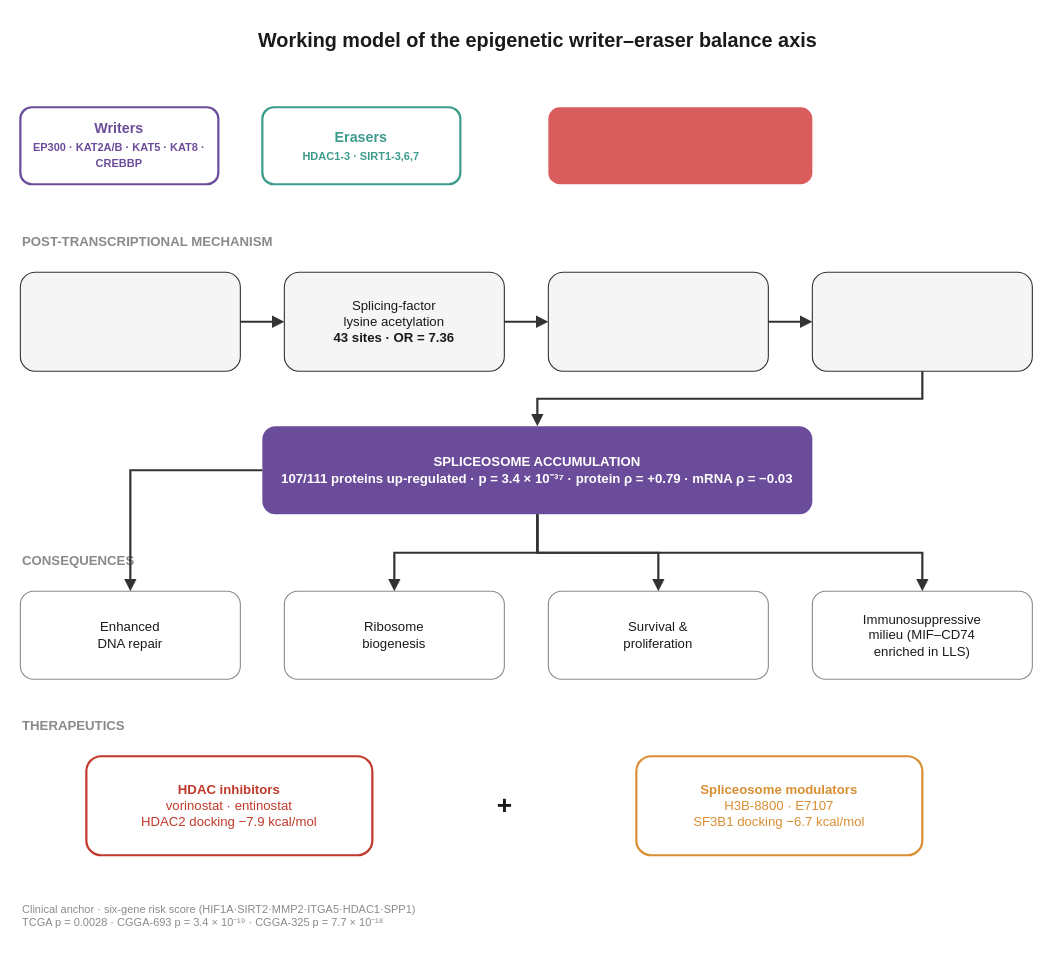
Image size: 1052x961. Some labels were removed from this diagram. The centre of each missing label's shape, as x and y in pixels:
Competitive block of ubiquitination: point 657,321
Non-histone acetyltransferase activity: point 129,321
Protein stabilization ρ = 0.62: point 921,321
Writer-dominant state (LHS) IQR top 25% of WEBS: point 680,145
